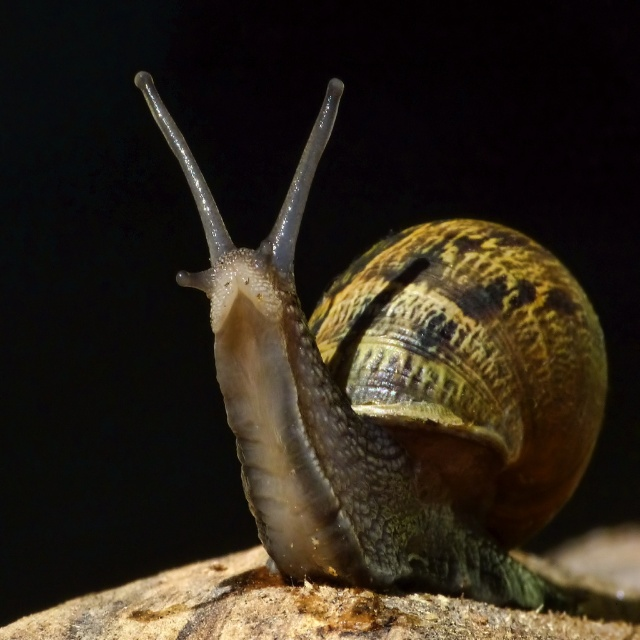Snail: (133, 67, 639, 620)
